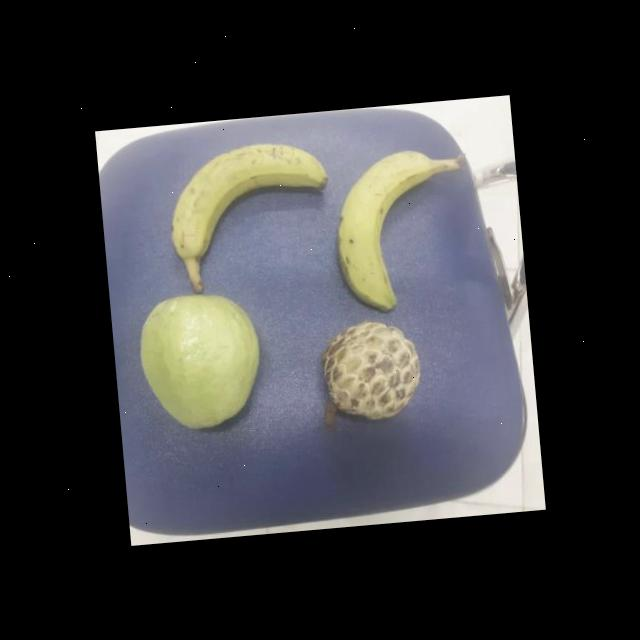Sakya fruit: (319, 314, 425, 424)
banana: (322, 142, 458, 315), (156, 136, 338, 264)
guava: (132, 286, 267, 432)
